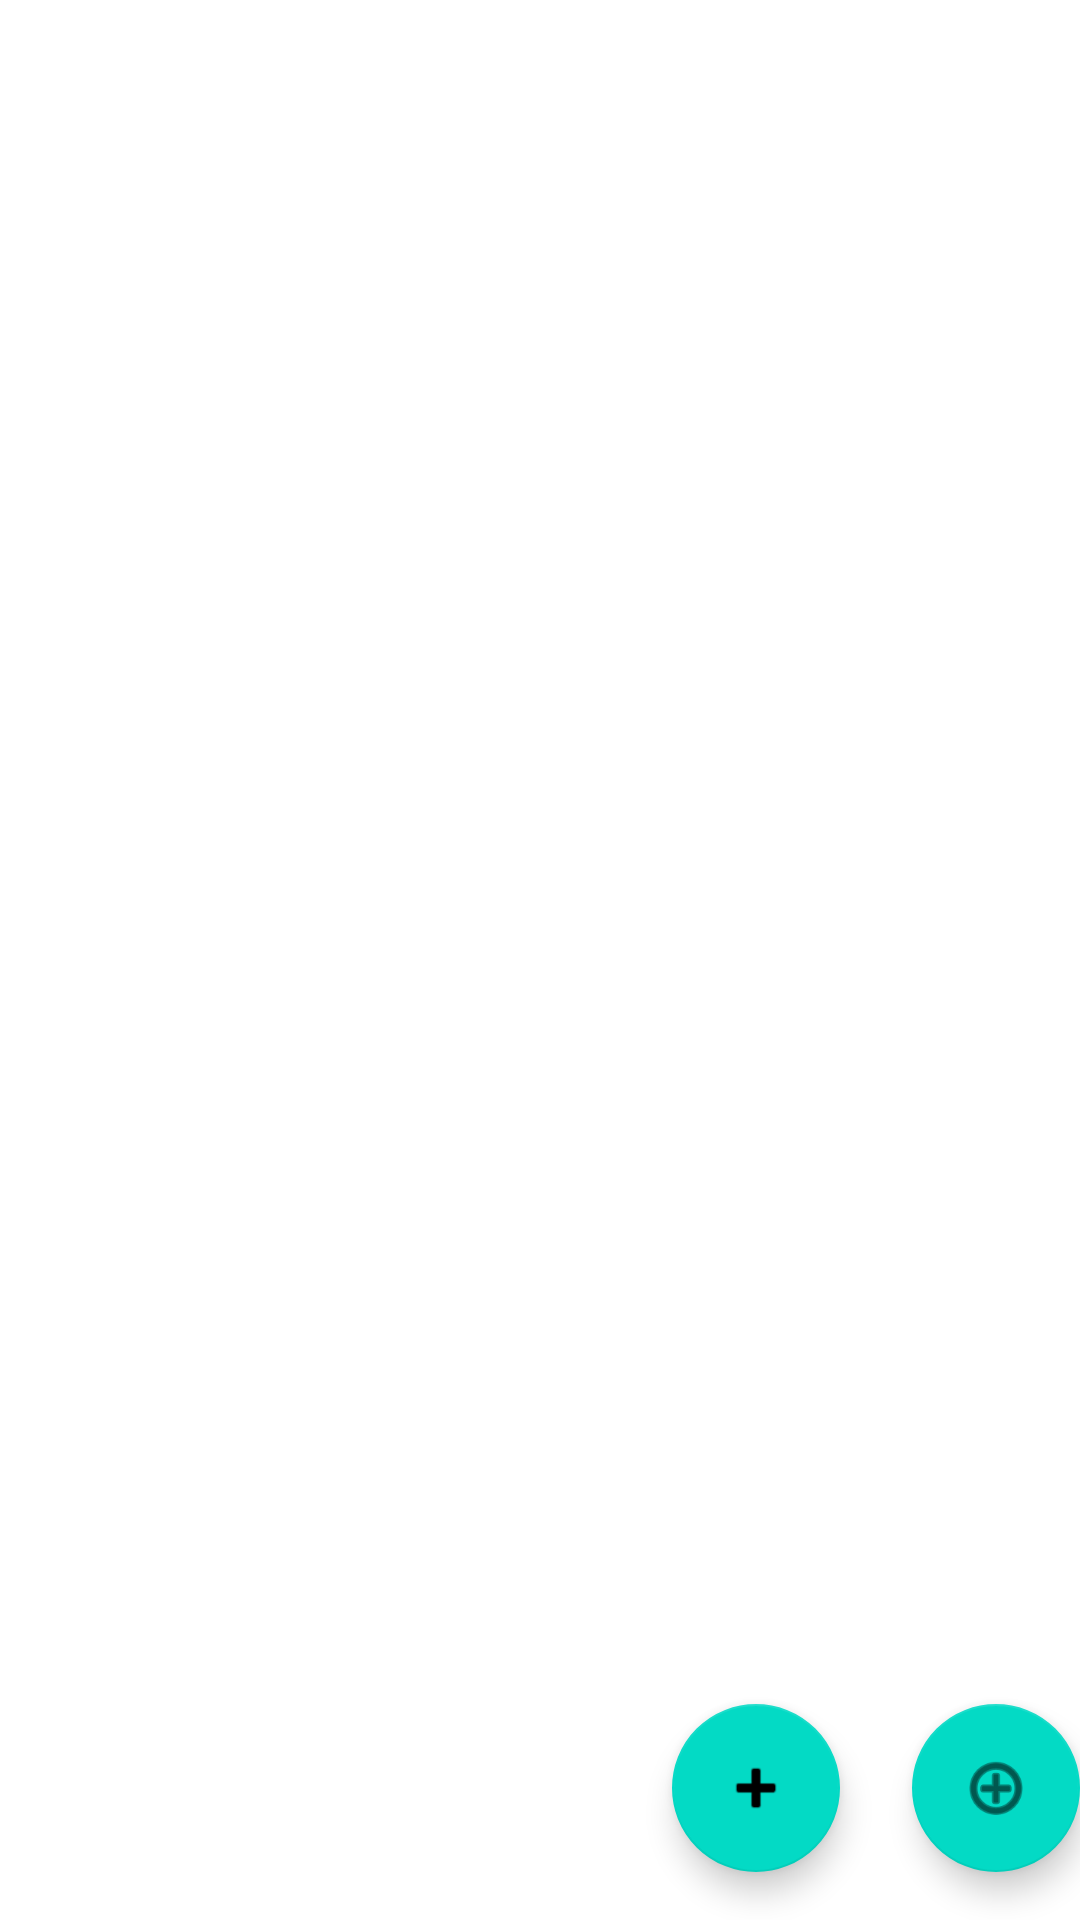

Screen size 1080×1920. Icon name, then its center in pixels as point (x, y):
add: point (756, 1788), point (996, 1788)
